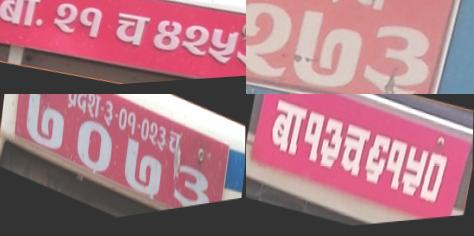0: (73, 111, 115, 188), (418, 150, 448, 213), (117, 108, 128, 139), (139, 119, 150, 149)
1: (246, 0, 301, 86), (381, 137, 409, 200), (300, 106, 326, 170), (73, 3, 109, 46), (125, 110, 138, 142)
2: (176, 22, 215, 68), (48, 0, 82, 39), (148, 123, 159, 154)
3: (171, 159, 214, 215), (316, 113, 346, 178), (231, 33, 246, 78), (102, 99, 114, 133), (156, 127, 168, 159)
4: (148, 16, 187, 61)
5: (397, 144, 430, 209), (203, 27, 242, 73)
6: (362, 129, 392, 192)
7: (284, 7, 372, 94), (120, 133, 166, 214), (20, 94, 69, 165)
9: (346, 0, 398, 19)
ba: (357, 20, 439, 94), (263, 94, 310, 166), (0, 0, 44, 36)
cha: (105, 7, 155, 56), (337, 120, 372, 187), (166, 129, 183, 166)
